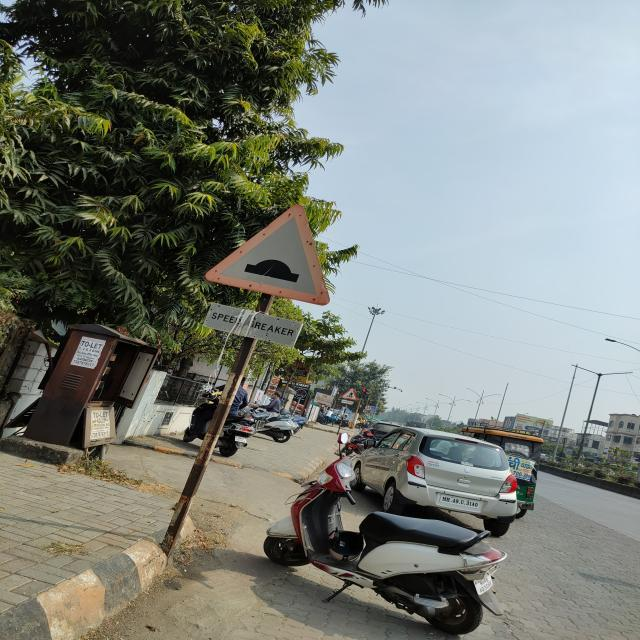hump or rough road: (202, 202, 334, 308)
